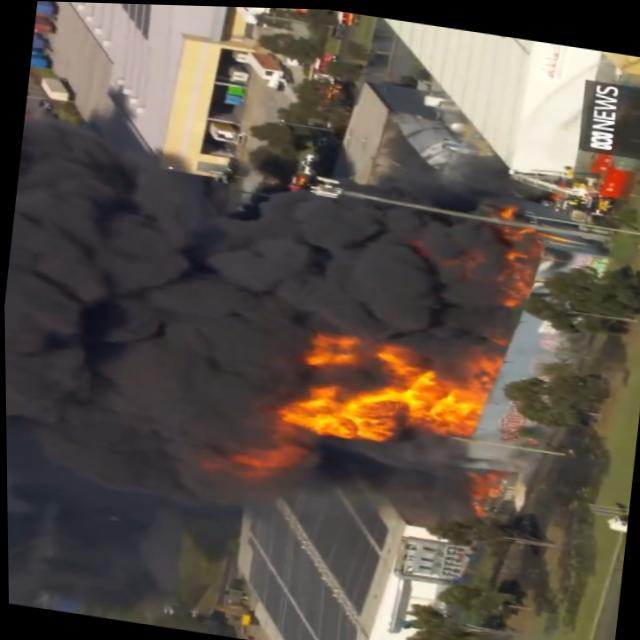Fire: (256, 314, 494, 470), (225, 427, 307, 482)
